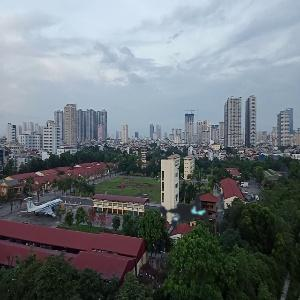drone: (138, 165, 235, 262)
